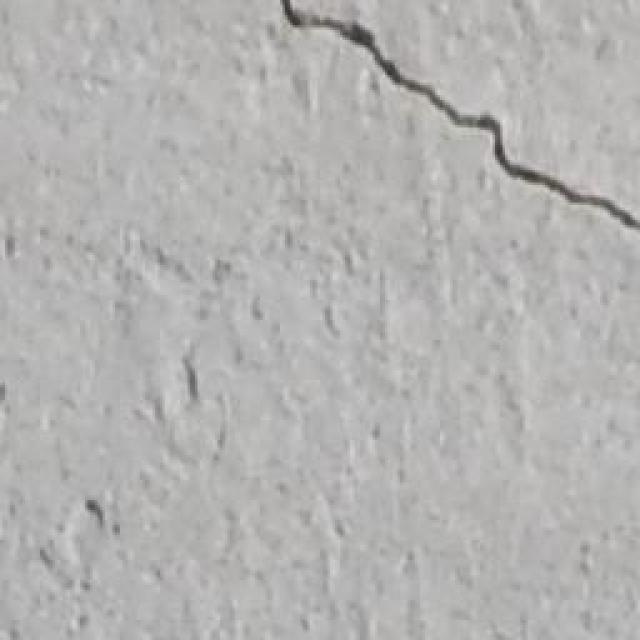concrete-crack: (280, 0, 640, 238)
